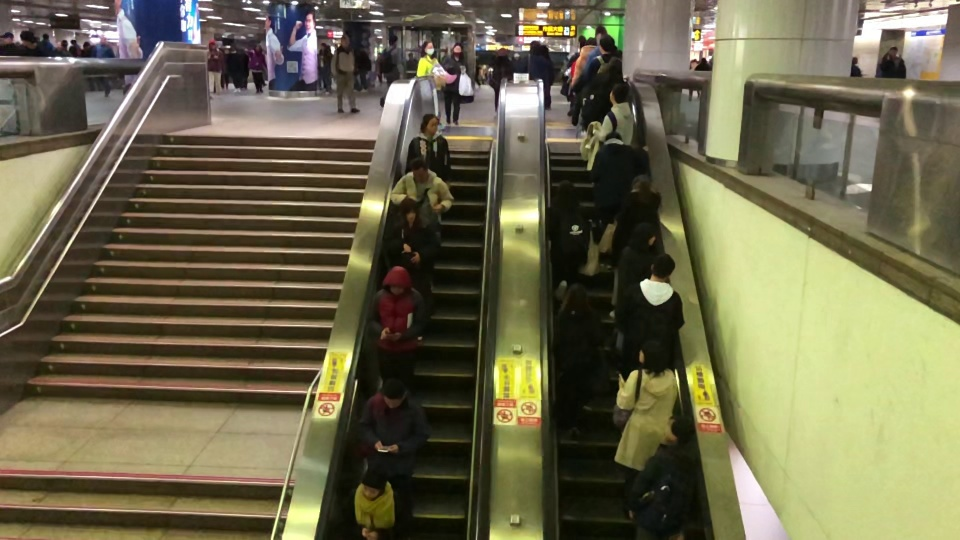person_head: (662, 413, 694, 447), (359, 464, 388, 499), (379, 378, 408, 409), (382, 264, 411, 294), (638, 340, 666, 369), (649, 252, 676, 280), (632, 221, 658, 248), (562, 282, 587, 307), (399, 197, 419, 224), (410, 157, 429, 183), (554, 179, 577, 200), (419, 113, 440, 135), (608, 82, 628, 103), (630, 173, 651, 192), (598, 34, 616, 55), (603, 130, 622, 146), (451, 41, 465, 58), (421, 39, 434, 56), (608, 58, 621, 75), (19, 30, 35, 43), (888, 45, 899, 60), (529, 42, 541, 55), (387, 33, 398, 47), (2, 31, 13, 44), (496, 47, 509, 58), (208, 37, 218, 49), (340, 34, 349, 46), (587, 36, 596, 45), (254, 44, 262, 53), (60, 39, 67, 48), (319, 41, 326, 50), (99, 36, 106, 44), (851, 56, 858, 64), (42, 33, 49, 39), (700, 56, 706, 62)
person_vbox: (612, 340, 679, 487), (388, 156, 454, 291), (552, 282, 606, 441), (588, 131, 649, 271), (383, 197, 439, 342), (631, 412, 694, 540), (609, 173, 663, 319), (614, 252, 685, 363), (356, 378, 430, 483), (367, 264, 428, 389), (614, 221, 659, 353), (404, 113, 451, 225), (549, 178, 591, 300), (341, 464, 407, 539), (579, 57, 630, 132), (592, 84, 635, 145), (330, 34, 360, 115), (416, 39, 446, 119), (441, 40, 468, 128), (377, 33, 407, 109), (515, 42, 554, 86), (91, 35, 116, 97), (491, 46, 512, 119), (585, 35, 617, 78), (571, 36, 596, 87), (246, 43, 267, 94), (206, 37, 222, 102), (880, 45, 907, 80), (317, 41, 332, 95), (15, 30, 41, 57), (0, 31, 15, 55), (41, 34, 57, 56), (56, 38, 70, 58), (694, 55, 710, 71), (851, 56, 862, 77)
